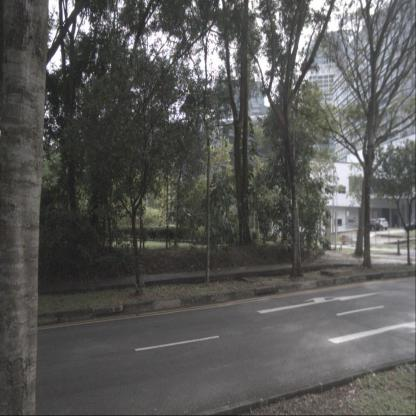vehicle-car: (365, 217, 380, 232), (374, 216, 388, 231), (404, 220, 416, 233)
